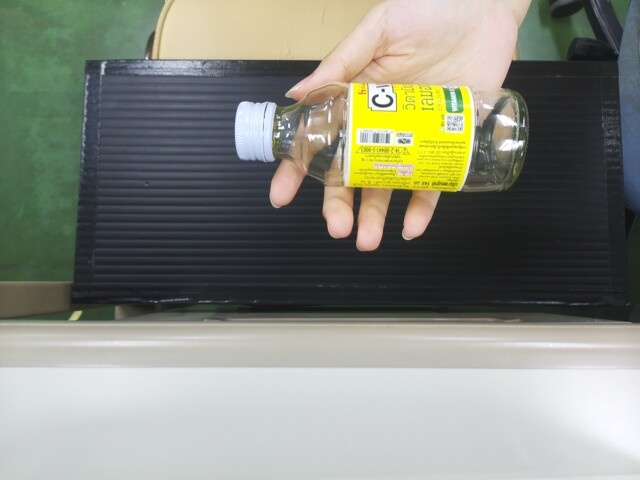glass_bottle: (229, 81, 525, 193)
